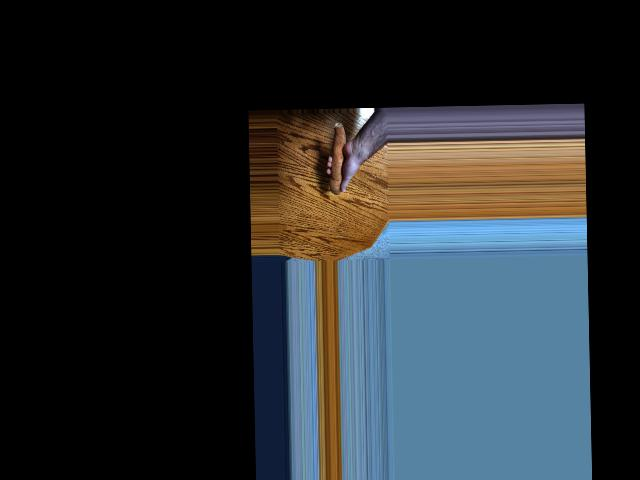sweet_potato: (327, 120, 352, 195)
